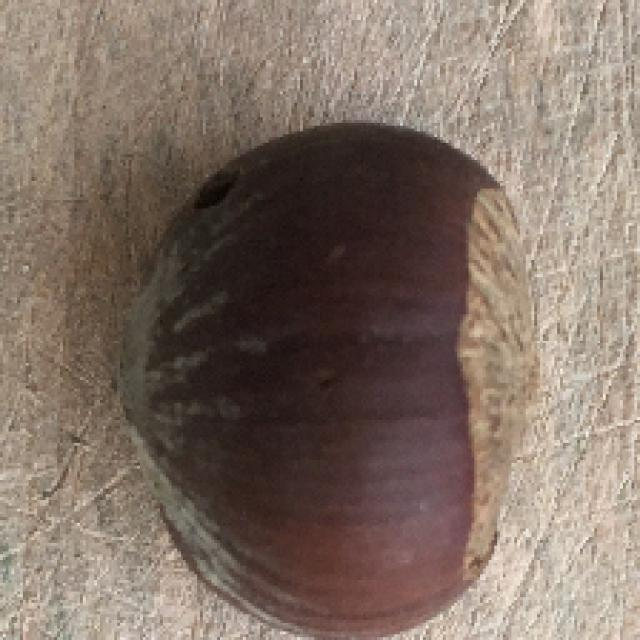DamagedHazelnut: (123, 120, 541, 637)
